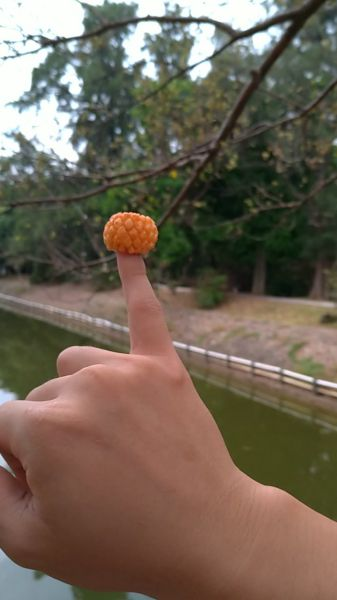eggs: (100, 211, 160, 255)
